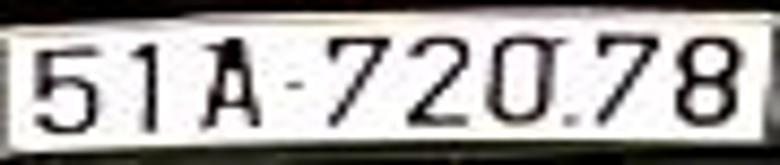-: (284, 76, 309, 91)
.: (562, 114, 577, 128)
0: (489, 36, 554, 126)
1: (129, 42, 159, 136)
2: (407, 37, 469, 130)
5: (31, 47, 103, 136)
7: (326, 34, 390, 129), (596, 37, 662, 125)
8: (677, 35, 737, 129)
A: (204, 36, 263, 130)
